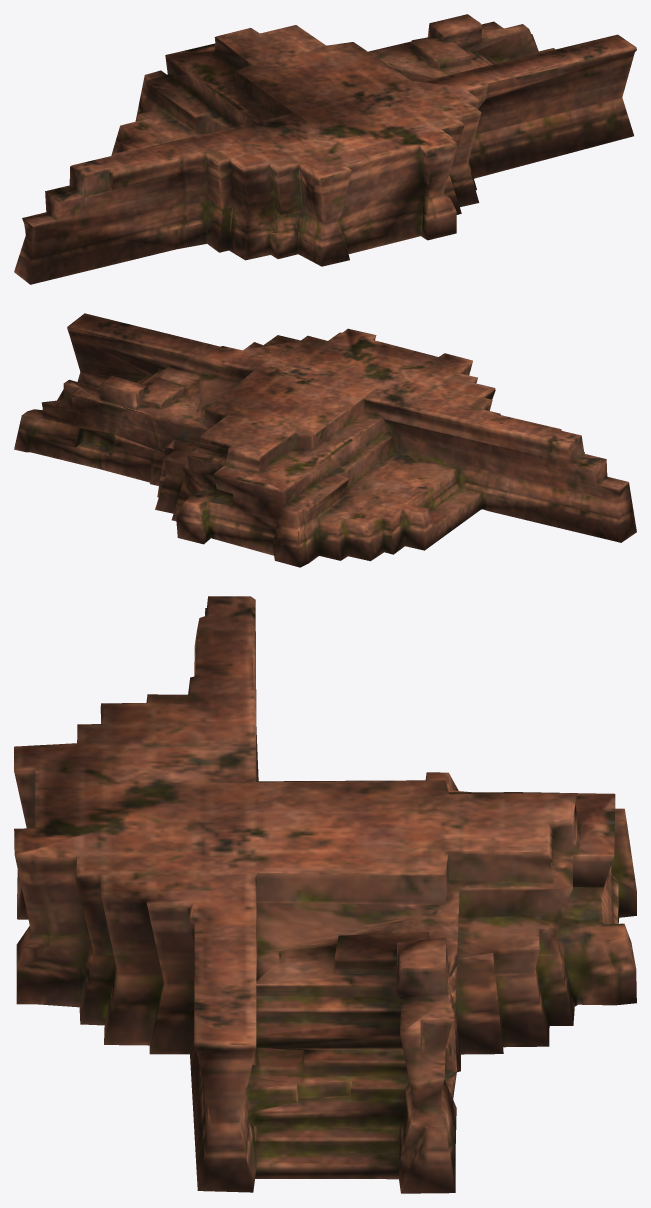
Rendered from ruinancienttemple.glb.
3 views of the same model, one above another, from view 1: azimuth 30°, elevation 25°; view 2: azimuth 150°, elevation 25°; view 3: azimuth 270°, elevation 25° (orthographic). The views are drawn at different scales.
Visible parts, largest first — view 1: Object_2; view 2: Object_2; view 3: Object_2.
Part boxes in pixels (x1,y1,x2,y2): Object_2: [14, 14, 636, 284]; Object_2: [14, 313, 636, 567]; Object_2: [14, 596, 636, 1193].
Size of the model in its own units: 104 by 15.58 by 56.
1 material, 1 textured.
